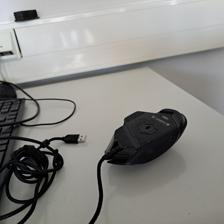mouse: (103, 107, 188, 166)
